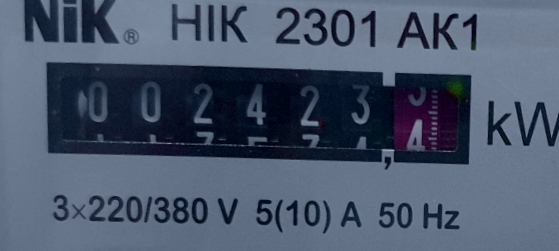0: (83, 76, 112, 126), (136, 79, 163, 125)
2: (188, 79, 216, 127), (296, 83, 321, 129)
3: (347, 81, 372, 127), (405, 84, 427, 107)
4: (243, 81, 267, 127), (402, 115, 428, 153)
screen: (31, 47, 485, 182)
